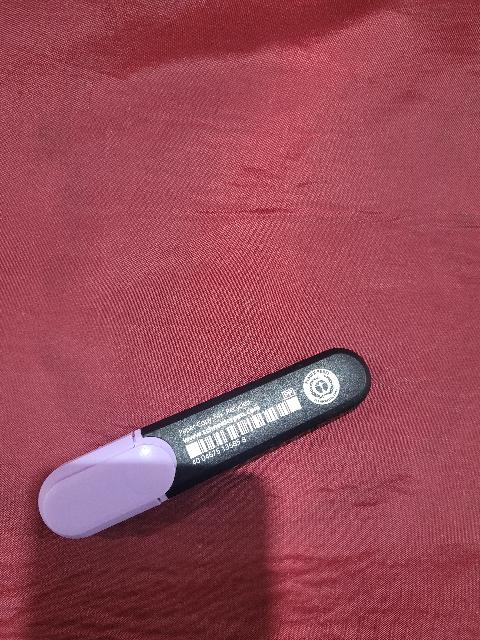Plastik: (35, 341, 374, 552)
